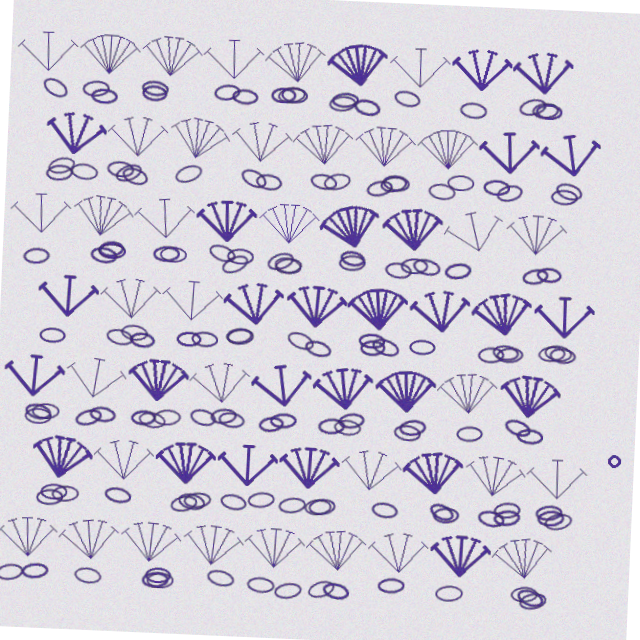chain: (30, 86, 61, 113), (217, 255, 249, 281), (107, 169, 138, 194), (167, 167, 198, 192), (232, 169, 263, 194), (204, 246, 235, 270), (286, 330, 317, 354), (263, 251, 293, 275), (435, 495, 465, 519), (318, 577, 348, 601), (371, 333, 402, 356), (114, 173, 144, 196), (78, 416, 108, 439), (507, 408, 537, 431), (527, 577, 557, 600), (508, 87, 539, 109), (40, 166, 70, 188), (316, 170, 346, 192), (359, 175, 389, 197), (489, 174, 519, 196), (548, 170, 578, 192), (304, 338, 334, 360), (552, 500, 582, 522), (409, 252, 439, 273), (177, 499, 207, 520), (217, 572, 247, 593), (530, 581, 560, 602), (343, 95, 372, 116), (383, 85, 412, 106), (519, 257, 548, 278), (193, 412, 222, 433), (6, 575, 36, 595), (285, 582, 315, 602), (303, 172, 332, 192), (373, 171, 402, 191), (271, 257, 300, 277), (441, 255, 470, 275), (106, 336, 135, 356), (28, 414, 57, 434), (111, 494, 140, 514), (185, 497, 214, 517), (227, 496, 256, 516), (485, 501, 514, 521), (333, 580, 362, 600), (267, 87, 297, 106), (203, 87, 232, 106), (142, 418, 171, 437), (191, 496, 220, 515), (286, 497, 315, 516), (249, 175, 277, 194), (422, 177, 450, 196), (87, 255, 115, 274), (272, 258, 300, 277), (336, 248, 364, 267), (226, 330, 254, 349), (214, 411, 242, 430), (262, 417, 290, 436), (342, 410, 370, 429), (403, 414, 431, 433), (255, 493, 283, 512), (316, 497, 344, 516), (379, 498, 407, 517), (501, 500, 529, 519), (85, 576, 113, 595), (545, 334, 574, 352), (157, 415, 186, 433), (131, 87, 159, 105), (319, 94, 347, 112), (450, 95, 478, 113), (522, 92, 550, 110), (39, 175, 67, 193), (64, 173, 92, 191), (100, 169, 128, 187), (376, 171, 404, 189), (20, 259, 48, 277), (382, 258, 410, 276), (121, 332, 149, 350), (227, 331, 255, 349), (493, 336, 521, 354), (497, 338, 525, 356), (539, 335, 567, 353), (93, 415, 121, 433), (222, 415, 250, 433), (398, 420, 426, 438), (312, 498, 340, 516), (501, 493, 529, 511), (545, 499, 573, 517), (543, 494, 571, 512), (32, 574, 60, 592), (258, 579, 287, 596), (95, 249, 122, 267), (130, 339, 157, 357), (72, 90, 100, 107), (550, 337, 578, 354), (322, 417, 350, 434), (338, 418, 366, 435), (59, 496, 87, 513), (447, 579, 475, 596), (522, 577, 550, 594), (222, 92, 249, 109), (271, 88, 298, 105), (322, 91, 349, 108), (150, 252, 177, 269), (336, 253, 363, 270), (192, 336, 219, 353), (479, 339, 506, 356), (274, 414, 301, 431), (461, 419, 488, 436), (521, 419, 548, 436), (44, 500, 71, 517), (441, 501, 468, 518), (153, 578, 180, 595), (389, 574, 416, 591), (95, 252, 123, 268), (398, 254, 426, 270), (36, 415, 64, 431), (132, 92, 158, 109), (534, 257, 560, 274), (361, 337, 387, 354), (135, 417, 161, 434), (81, 98, 108, 114), (526, 94, 553, 110), (441, 169, 468, 185), (477, 172, 504, 188), (545, 179, 572, 195), (157, 253, 184, 269), (224, 252, 251, 268), (40, 339, 67, 355), (359, 331, 386, 347), (410, 335, 437, 351), (29, 420, 56, 436), (48, 495, 75, 511), (158, 579, 185, 595), (156, 574, 183, 590), (261, 89, 287, 105), (177, 337, 203, 353)
fan: (436, 196, 505, 255), (312, 197, 381, 255), (158, 117, 225, 172), (314, 37, 380, 91), (531, 118, 597, 172), (469, 280, 535, 334), (252, 361, 318, 414), (35, 442, 101, 495), (252, 38, 317, 90), (66, 200, 131, 252), (221, 281, 286, 333), (66, 362, 131, 414), (314, 362, 379, 414), (469, 443, 534, 495), (500, 524, 565, 576), (36, 119, 100, 170), (408, 281, 472, 332), (191, 362, 255, 413), (408, 443, 472, 494), (67, 524, 131, 575), (377, 201, 441, 251), (501, 363, 565, 413), (191, 525, 255, 575), (501, 39, 564, 89), (284, 120, 347, 170), (346, 282, 409, 332), (315, 525, 378, 575), (129, 39, 192, 88), (129, 201, 192, 250), (439, 363, 502, 412), (346, 444, 409, 493), (129, 525, 192, 574), (223, 121, 285, 169), (471, 121, 533, 169), (99, 283, 161, 331), (285, 283, 347, 331), (6, 364, 68, 412), (378, 364, 440, 412), (409, 121, 471, 168), (130, 364, 192, 411), (6, 526, 68, 573), (6, 40, 67, 87), (192, 40, 253, 87), (347, 121, 408, 168), (6, 202, 67, 249), (192, 202, 253, 249), (161, 283, 222, 330), (285, 445, 346, 492), (378, 526, 439, 573), (68, 41, 129, 87), (502, 203, 563, 249), (37, 284, 98, 330), (533, 446, 594, 492), (254, 527, 315, 573), (440, 527, 501, 573), (379, 41, 439, 87), (100, 122, 160, 168), (534, 284, 594, 330), (162, 446, 222, 492), (441, 41, 501, 86), (255, 203, 315, 248), (100, 446, 160, 491), (224, 446, 284, 491)
noise: (612, 440, 629, 457)
